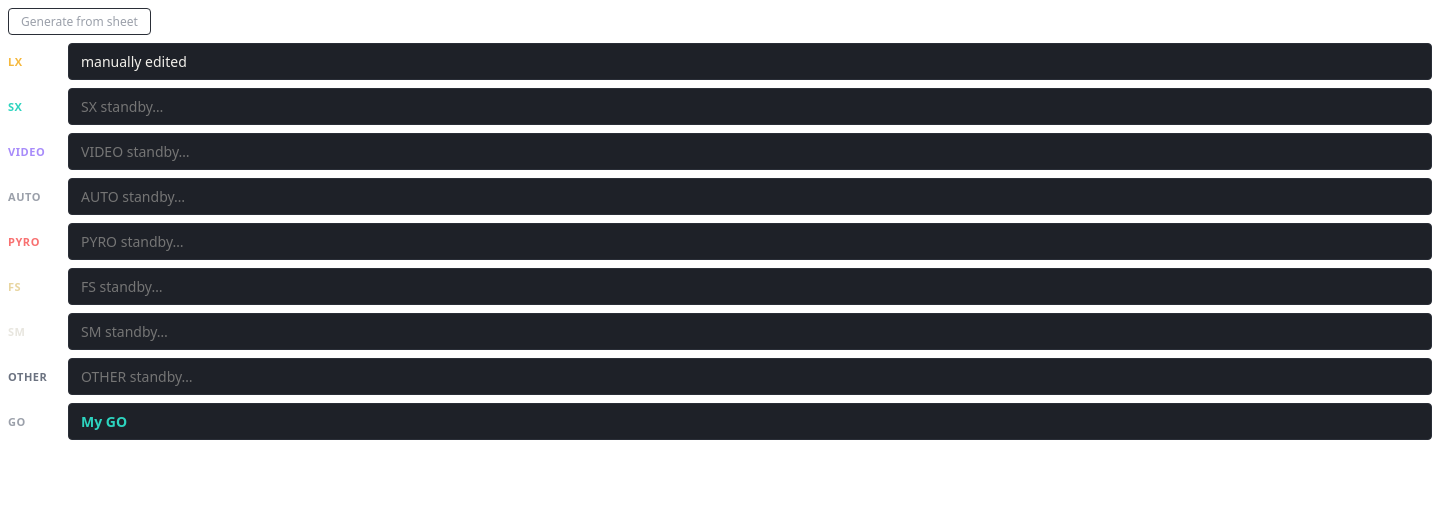
Test: CallerLinesEditor — Generate from sheet › clicking generate when value is non-null shows confirmation, does not apply yet
Click the button with test id "caller-generate-btn" at (79, 22), box left=8, top=8, right=151, bottom=35
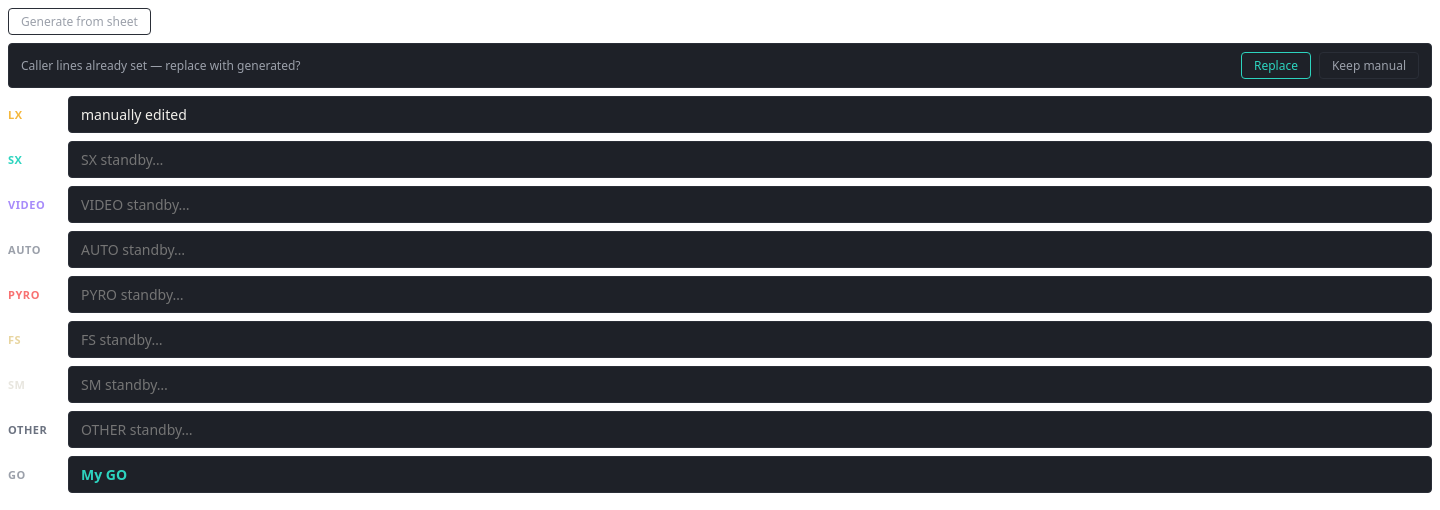
Result: the element with test id "caller-generate-confirm" is shown at left=8, top=43, right=1432, bottom=88
